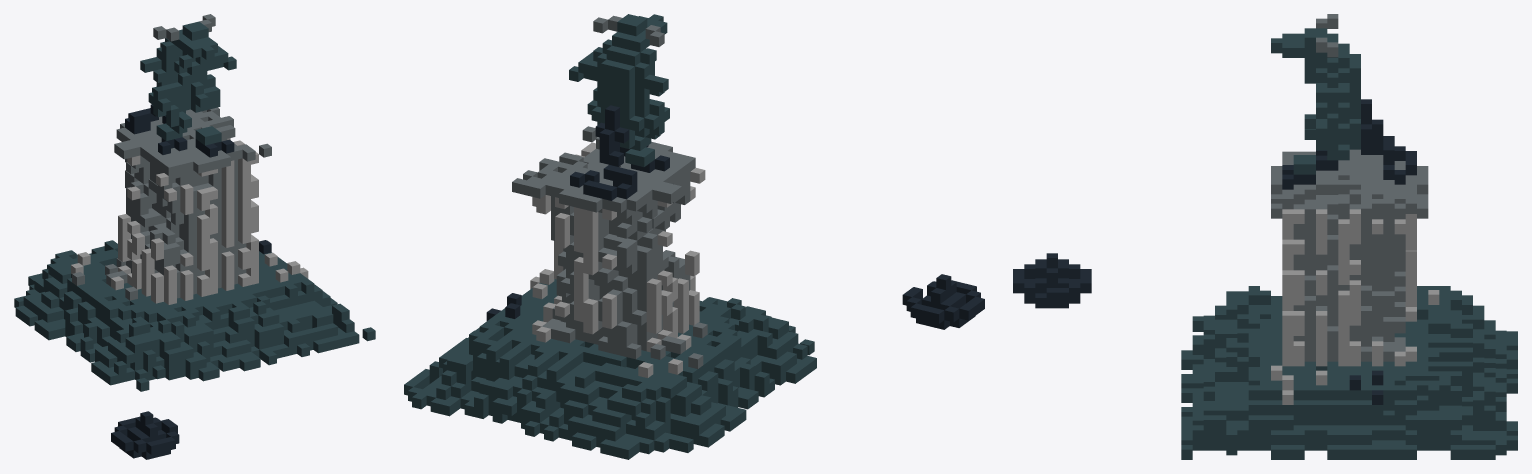
The model's file is rat_statue_destroyed.obj.
3 views of the same model, side by side, from view 1: azimuth 30°, elevation 25°; view 2: azimuth 150°, elevation 25°; view 3: azimuth 270°, elevation 25° (orthographic). The views are drawn at different scales.
Size of the model in its own units: 3.8 by 3.5 by 4.5.
Materials: 1 (1 with a texture image).
